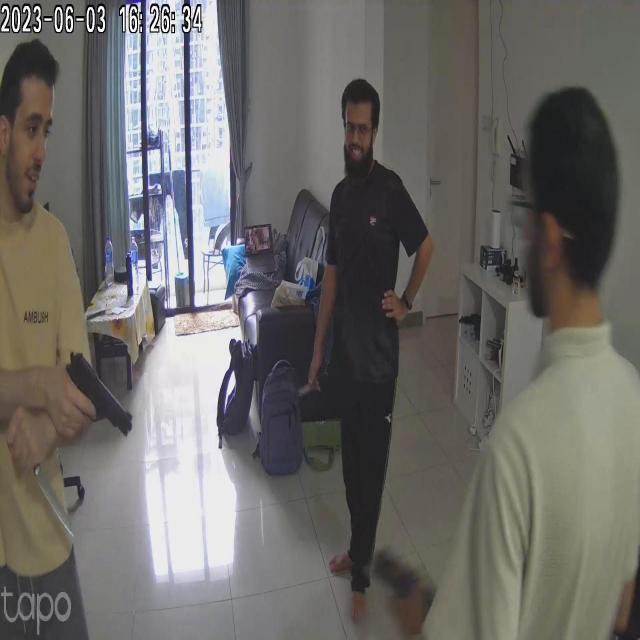Gun: (64, 325, 138, 436)
Knife: (13, 448, 97, 558)
